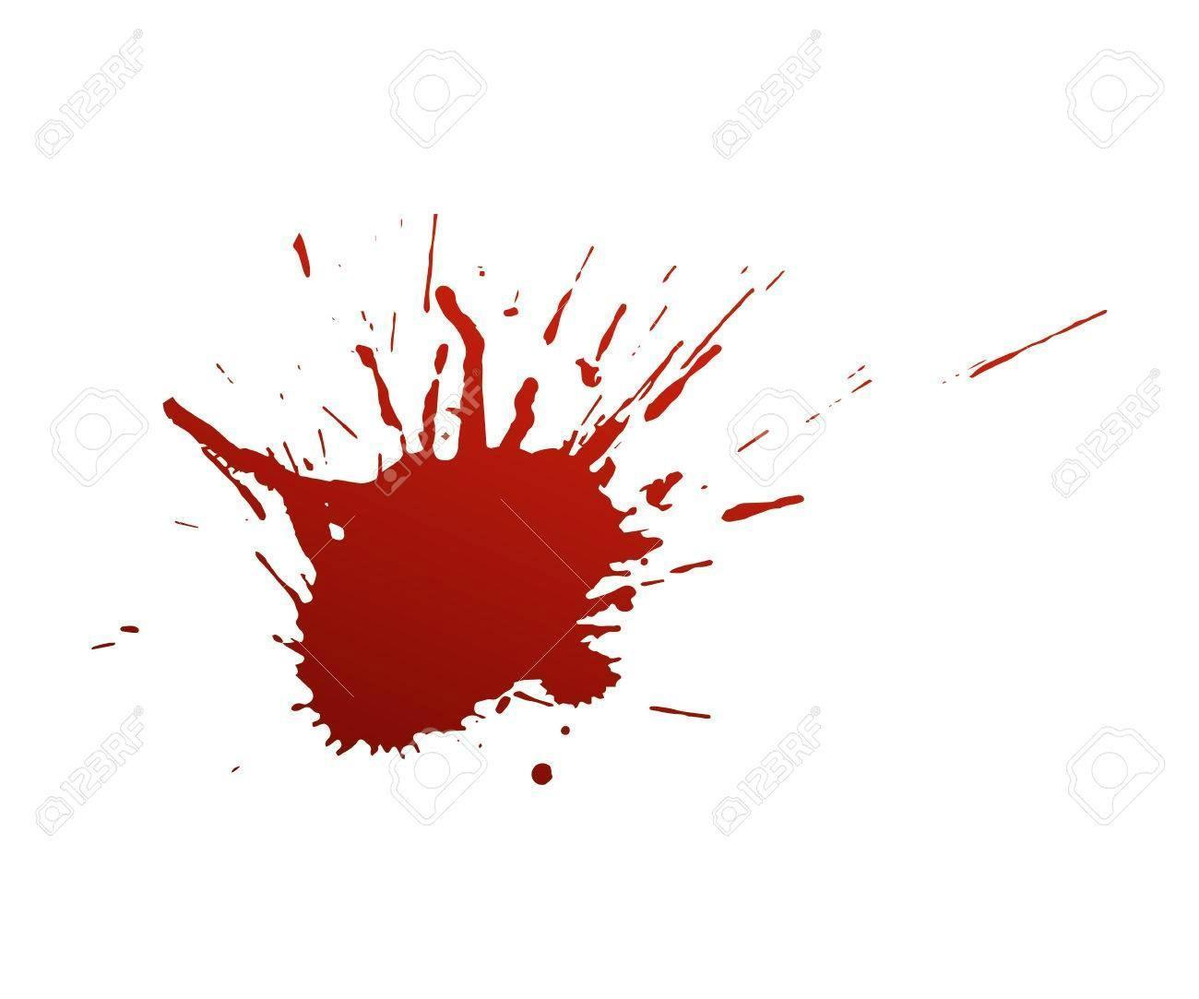Bloodstain-Detection: (288, 438, 630, 740)
